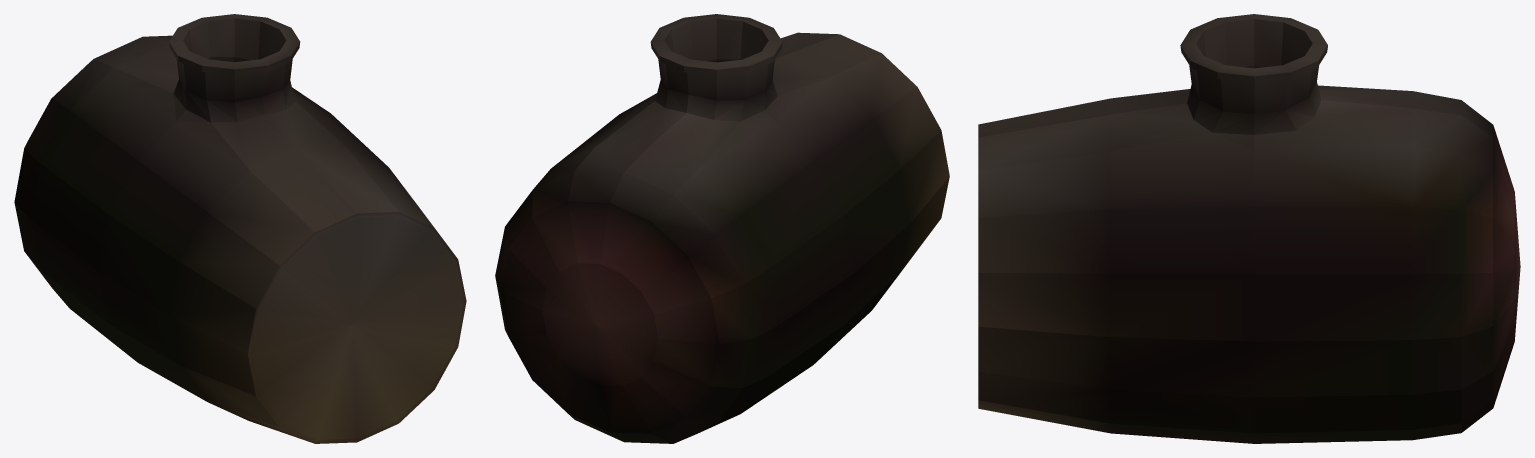
The model's file is manure_container_2daa8ef4.glb.
3 views of the same model, side by side, from view 1: azimuth 30°, elevation 25°; view 2: azimuth 150°, elevation 25°; view 3: azimuth 270°, elevation 25° (orthographic). The views are drawn at different scales.
Parts seen in each view (by area): view 1: Manure_Container_Material #26_0; view 2: Manure_Container_Material #26_0; view 3: Manure_Container_Material #26_0.
Part boxes in pixels (x1,y1,x2,y2): Manure_Container_Material #26_0: (14, 14, 466, 443); Manure_Container_Material #26_0: (495, 14, 949, 443); Manure_Container_Material #26_0: (978, 14, 1520, 443).
Size of the model in its own units: 0.342 by 0.408 by 0.5221.
